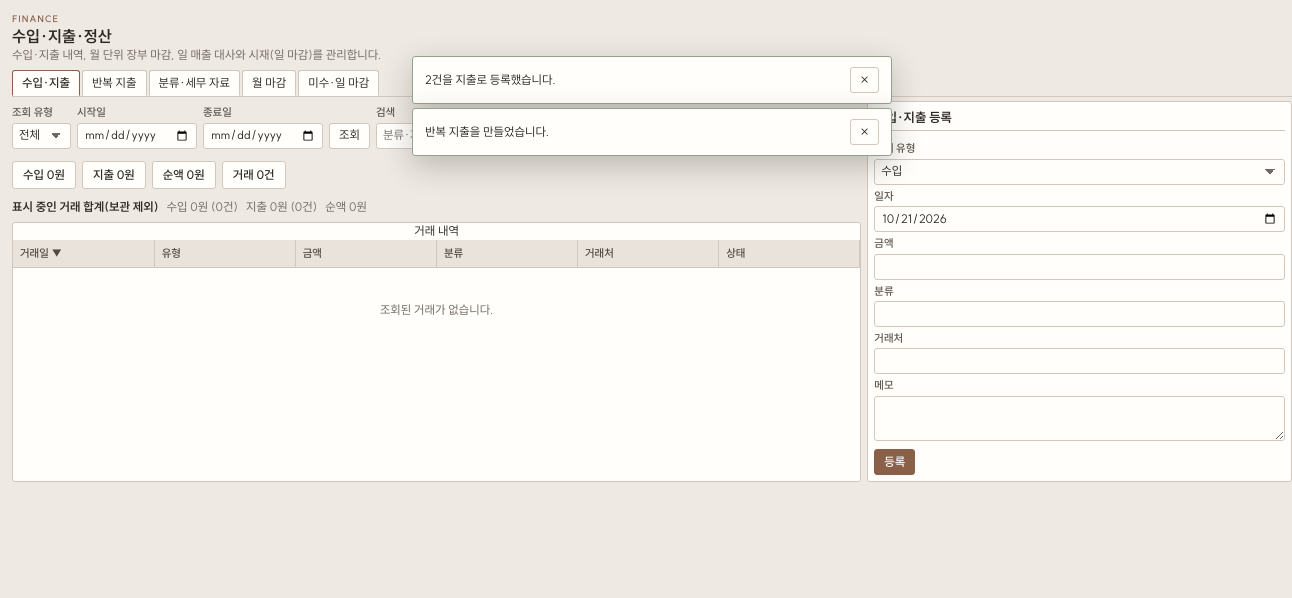
Test: RecurringPanel 반복 지출(FIN-11) › 수정은 expected_version과 함께 PATCH하고, 이미 등록된 거래는 바뀌지 않는다고 알린다
The image size is (1292, 598).
Click the tab "반복 지출": (114, 83) [82,70,147,96]
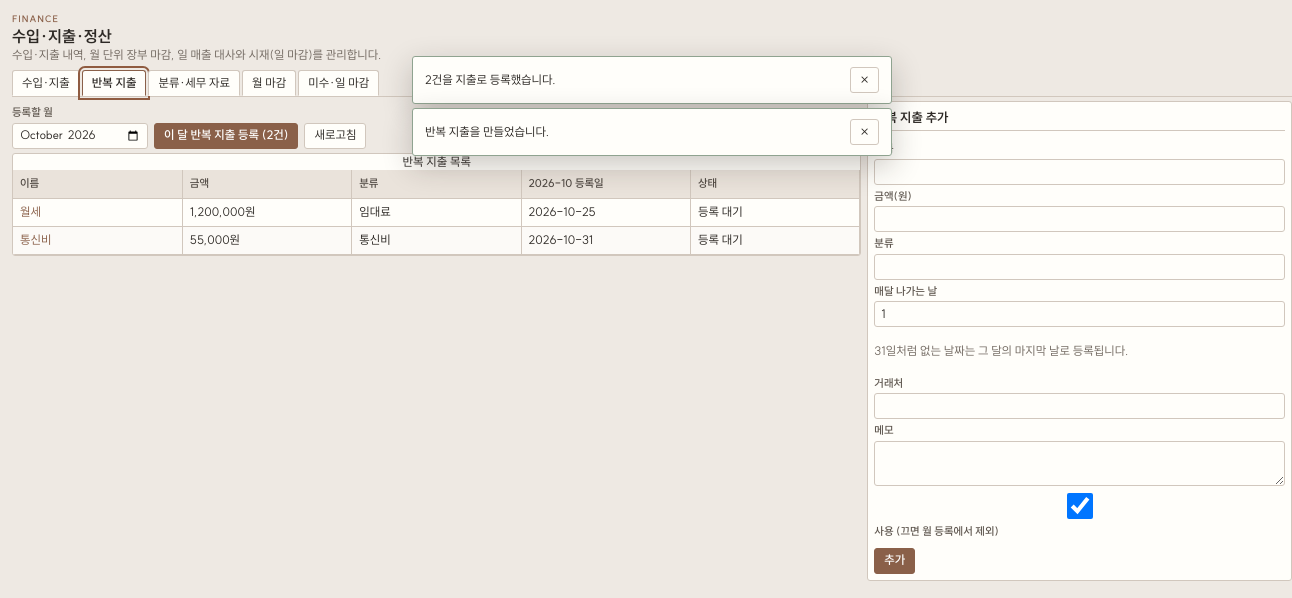
Check: the table "반복 지출 목록" is shown, box [13,154,860,255]
Click the button "월세": (30, 212) [20,199,41,225]
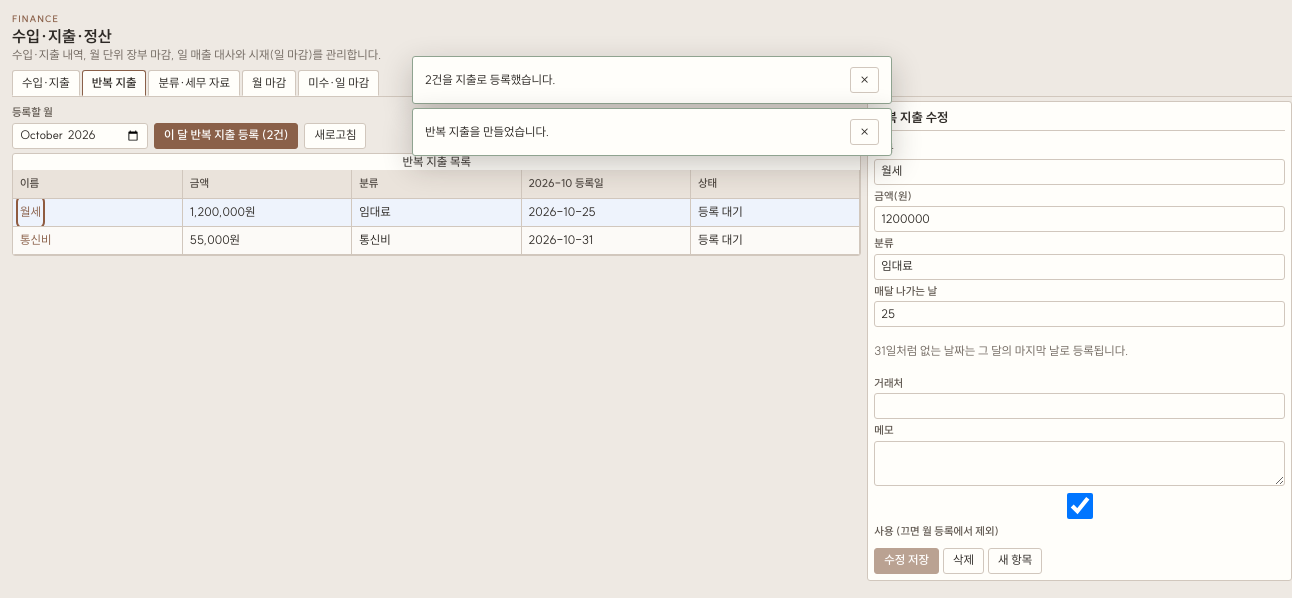
Check: the field labelled "이름" holds "월세", box [874,159,1285,185]
Check: the button "수정 저장" is disabled, box [874,548,939,574]
Replace the text in the field labelled "금액(원)" with "1300000": (1080, 219) [874,206,1285,232]
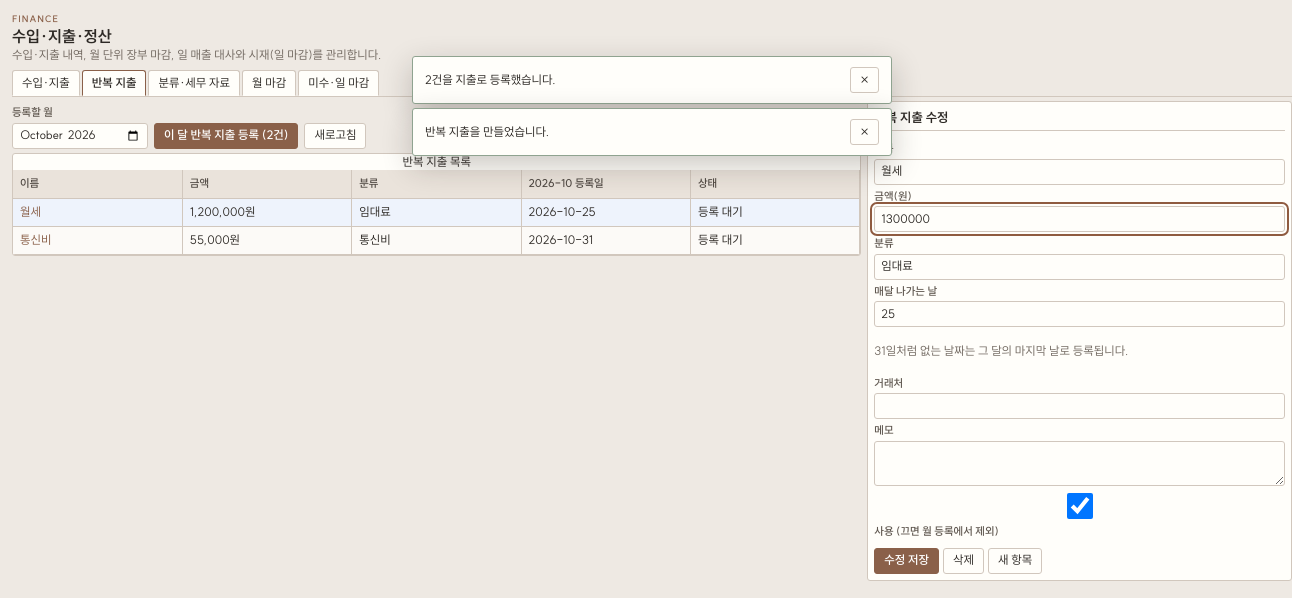
Click the button "수정 저장": (907, 560) [874,548,939,574]
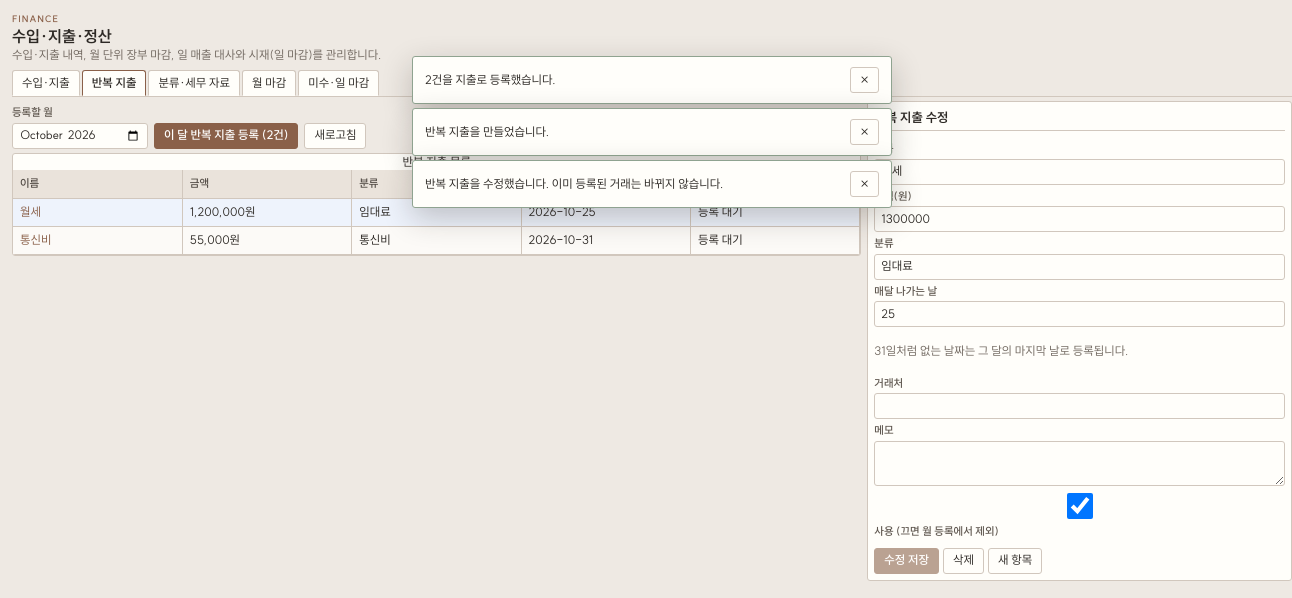
Check: the text "반복 지출을 수정했습니다. 이미 등록된 거래는 바뀌지 않습니다." is shown, box [425,176,723,191]
